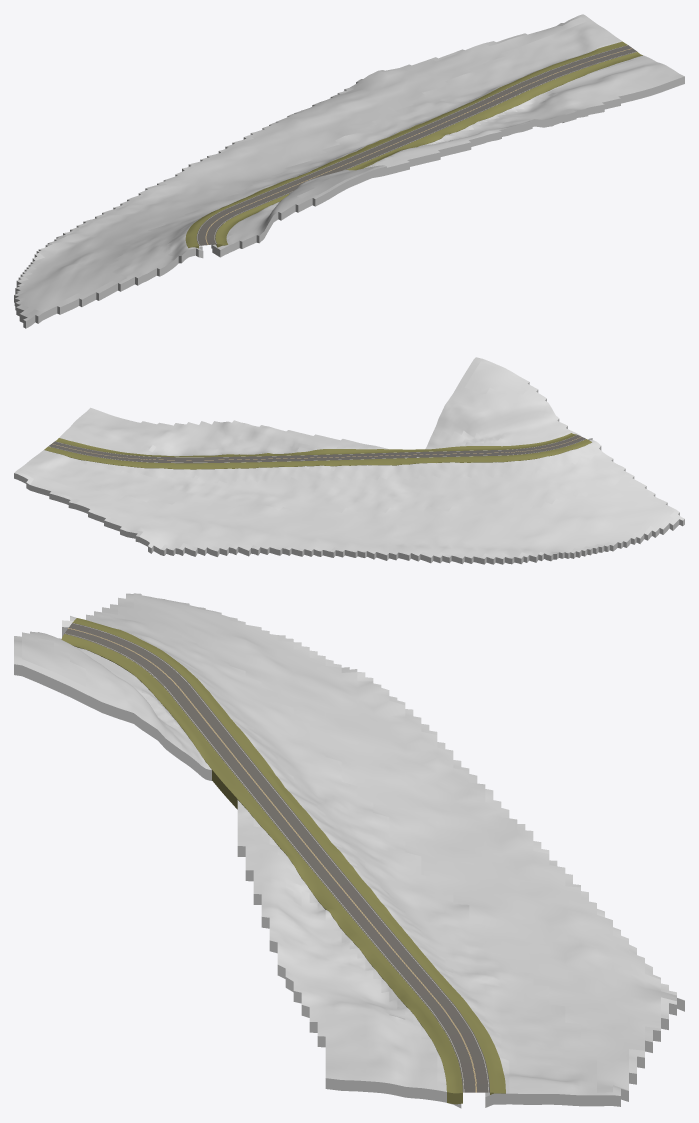
Rendered from conz_58.glb.
The picture shows the model from 3 angles, top to bottom: view 1: azimuth 30°, elevation 25°; view 2: azimuth 150°, elevation 25°; view 3: azimuth 270°, elevation 25°; orthographic projection. The views are drawn at different scales.
Parts seen in each view (by area): view 1: terrain58, road58, verge58R, verge58L, paint_white58; view 2: terrain58, verge58L, road58, verge58R, paint_yellow58, paint_white58; view 3: terrain58, road58, verge58R, verge58L, paint_white58, paint_yellow58.
Boxes of the visible parts, x1=… form: terrain58: x1=14, y1=14, x2=684, y2=328; road58: x1=196, y1=45, x2=637, y2=245; verge58R: x1=215, y1=52, x2=642, y2=247; verge58L: x1=185, y1=41, x2=627, y2=248; paint_white58: x1=197, y1=45, x2=634, y2=245; terrain58: x1=14, y1=357, x2=684, y2=564; verge58L: x1=44, y1=439, x2=591, y2=469; road58: x1=48, y1=435, x2=585, y2=463; verge58R: x1=55, y1=433, x2=576, y2=457; paint_yellow58: x1=53, y1=437, x2=580, y2=460; paint_white58: x1=49, y1=435, x2=581, y2=462; terrain58: x1=14, y1=593, x2=684, y2=1108; road58: x1=64, y1=623, x2=489, y2=1092; verge58R: x1=61, y1=634, x2=462, y2=1104; verge58L: x1=72, y1=618, x2=505, y2=1094; paint_white58: x1=65, y1=623, x2=488, y2=1092; paint_yellow58: x1=68, y1=628, x2=476, y2=1092.
Size of the model in its own units: 304 by 57.27 by 168.
